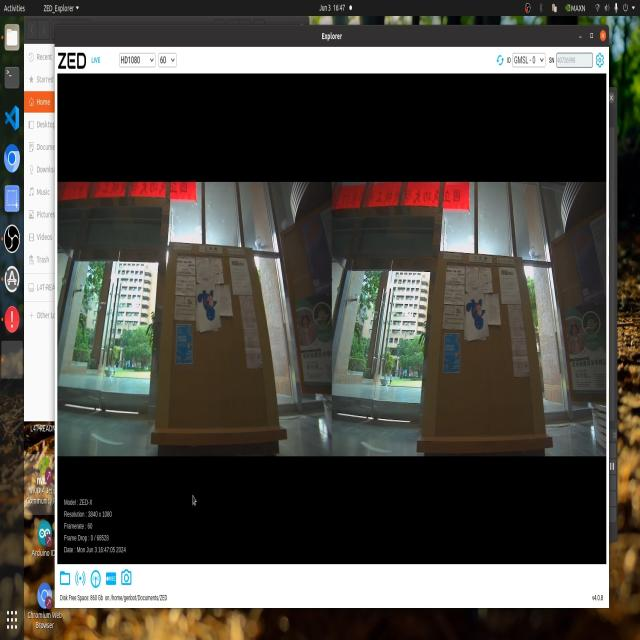blue: (462, 293, 494, 339), (190, 280, 214, 324)
